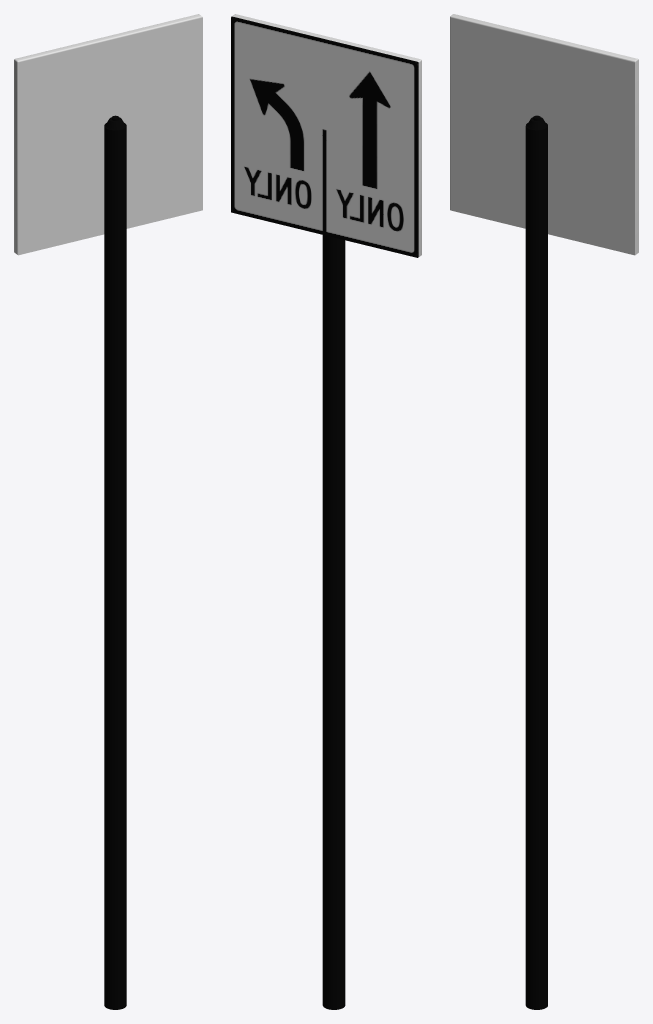
The model's file is road_sign.glb.
3 views of the same model, side by side, from view 1: azimuth 30°, elevation 25°; view 2: azimuth 150°, elevation 25°; view 3: azimuth 330°, elevation 25° (orthographic).
Visible parts, largest first — view 1: road_sign_base, road_sign_column; view 2: road_sign_base, road_sign_column; view 3: road_sign_base, road_sign_column.
Boxes of the visible parts, left/top/right/bottom form: road_sign_base: left=14, top=14, right=202, bottom=255; road_sign_column: left=104, top=115, right=126, bottom=1009; road_sign_base: left=231, top=14, right=421, bottom=257; road_sign_column: left=322, top=235, right=345, bottom=1009; road_sign_base: left=450, top=14, right=638, bottom=255; road_sign_column: left=525, top=115, right=547, bottom=1009.
Size of the model in its own units: 0.3987 by 1.98 by 0.0551.
Materials: 3 (1 with a texture image).
